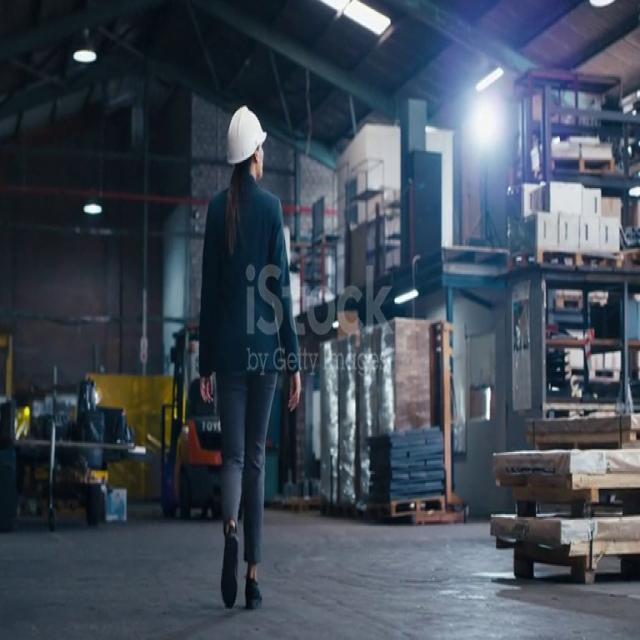capacete: (220, 96, 272, 166)
